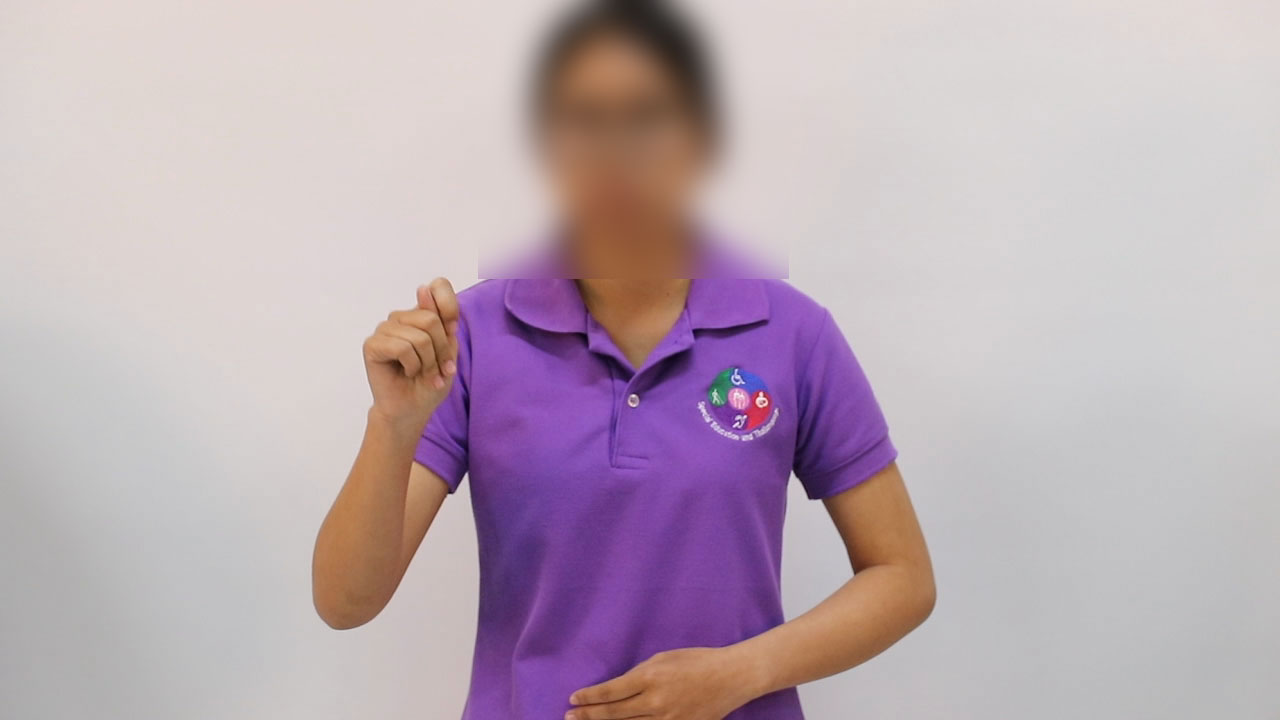tor: (332, 262, 482, 455)
